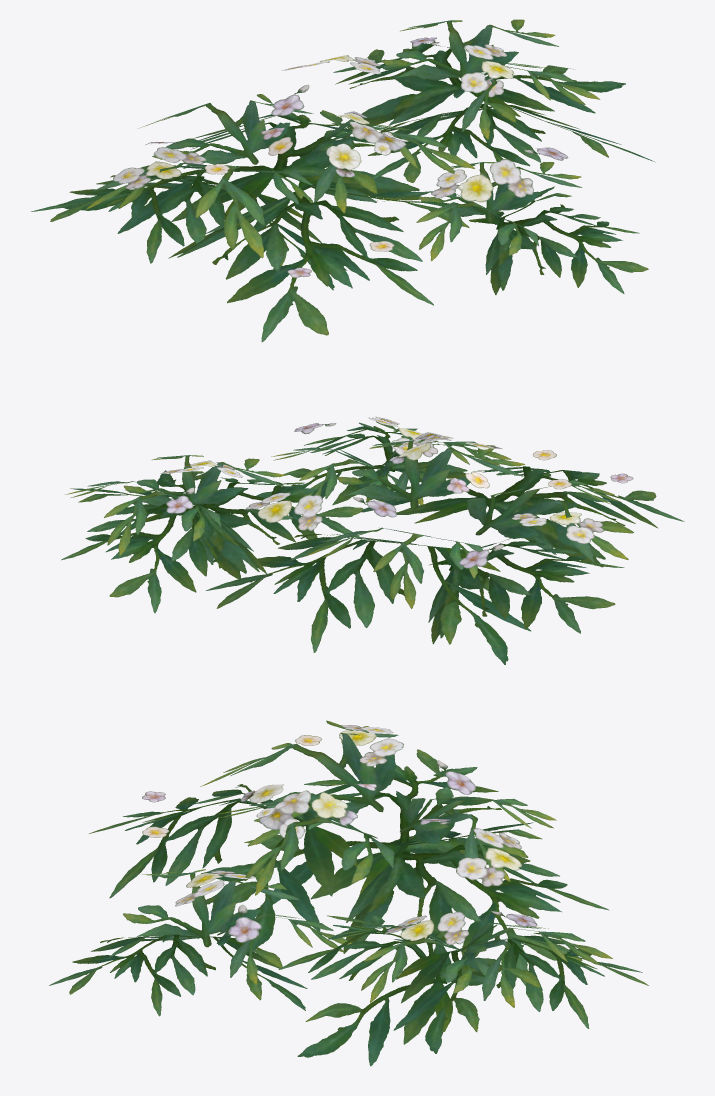
Rendered from S_Tree_Green066.FBX.
3 views of the same model, one above another, from view 1: azimuth 30°, elevation 25°; view 2: azimuth 150°, elevation 25°; view 3: azimuth 270°, elevation 25° (orthographic). The views are drawn at different scales.
Visible parts, largest first — view 1: S_Tree_Green066; view 2: S_Tree_Green066; view 3: S_Tree_Green066.
Boxes of the visible parts, left/top/right/bottom form: S_Tree_Green066: left=31, top=19, right=655, bottom=342; S_Tree_Green066: left=61, top=416, right=684, bottom=664; S_Tree_Green066: left=49, top=720, right=648, bottom=1066.
Bounding box in the file's own units: 107 × 23.87 × 94.43.
